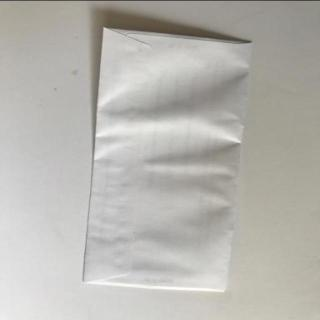Anorganik: (76, 27, 258, 294)
